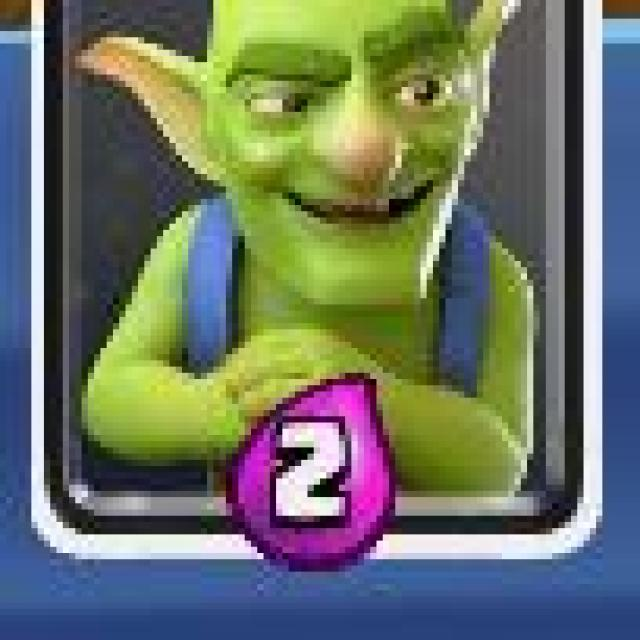Goblins: (29, 0, 604, 564)
